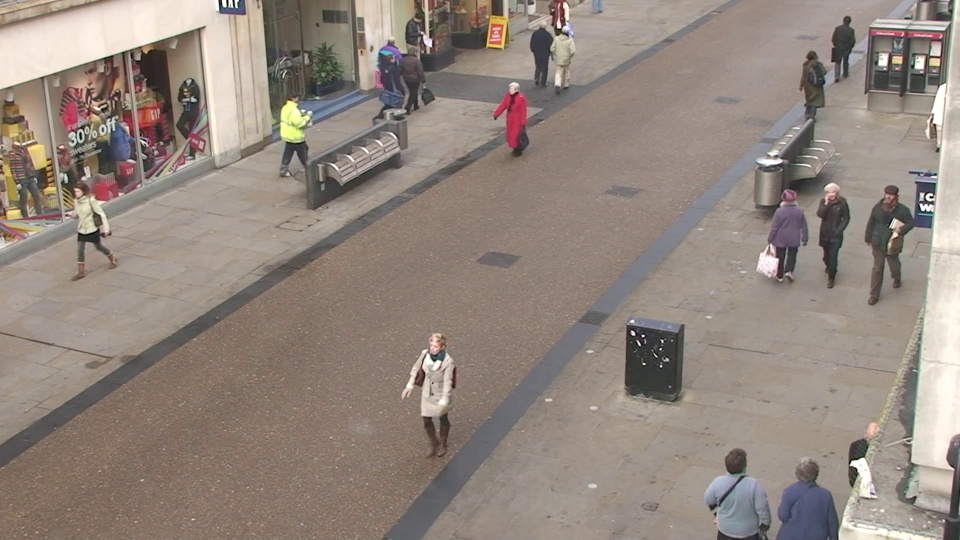pedestrian: (413, 326, 465, 475), (701, 436, 763, 540), (770, 445, 835, 540), (862, 181, 910, 296), (62, 177, 112, 286), (807, 179, 850, 292), (766, 184, 808, 298), (278, 85, 310, 171), (793, 47, 825, 126), (501, 79, 530, 164), (828, 13, 859, 85), (378, 50, 406, 127), (398, 44, 426, 119), (378, 33, 404, 104), (555, 23, 579, 93), (531, 17, 555, 85), (408, 10, 432, 76)
